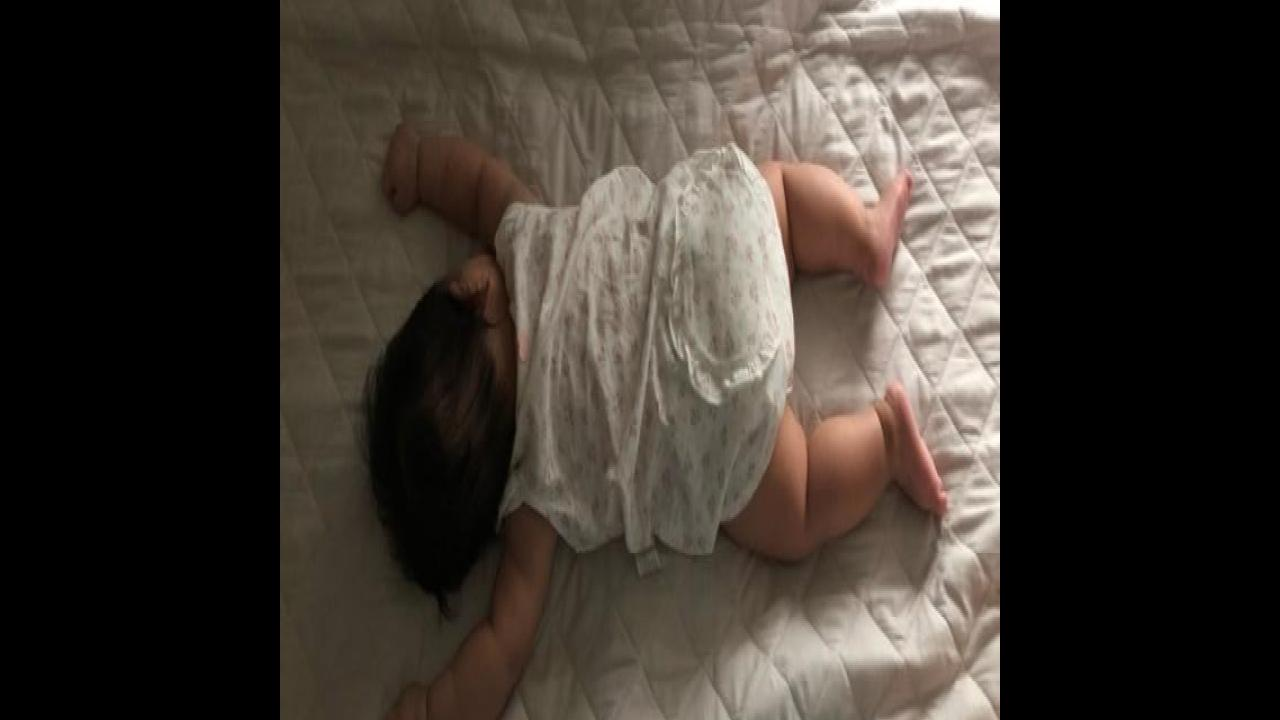hand: (382, 115, 426, 217), (379, 677, 432, 720)
